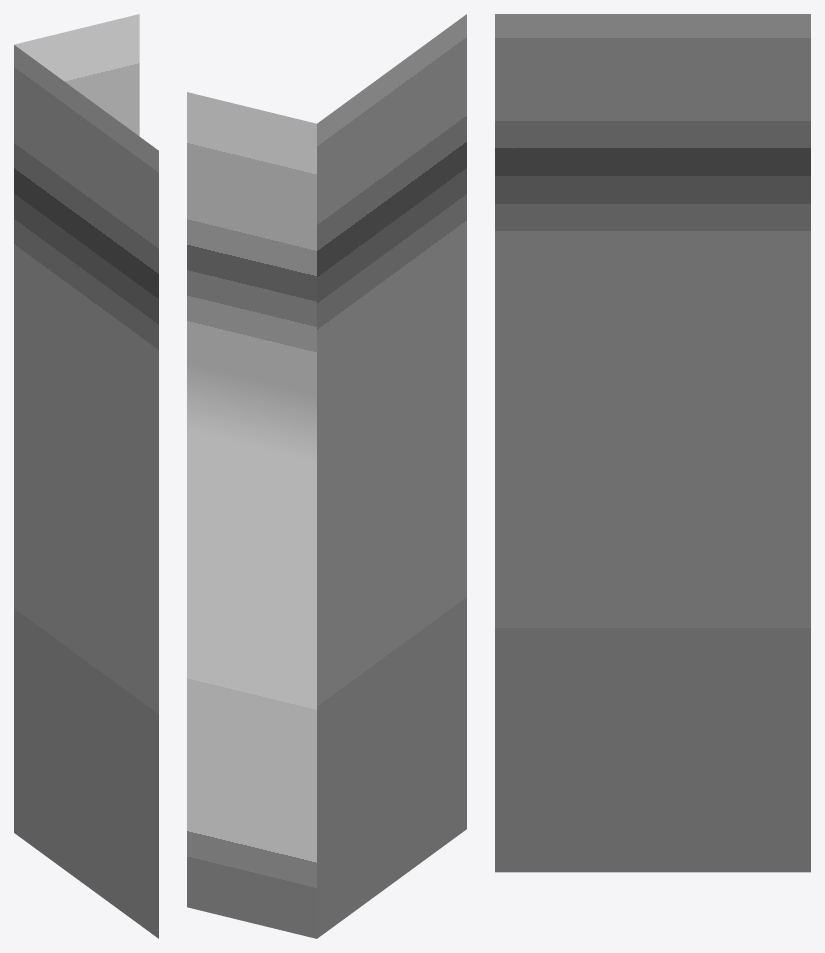
3 renders of one model, left to right at view 1: azimuth 30°, elevation 25°; view 2: azimuth 150°, elevation 25°; view 3: azimuth 270°, elevation 25°, orthographic. The views are drawn at different scales.
Size of the model in its own units: 0.5 by 3 by 1.
Materials: 2 (2 with a texture image).
